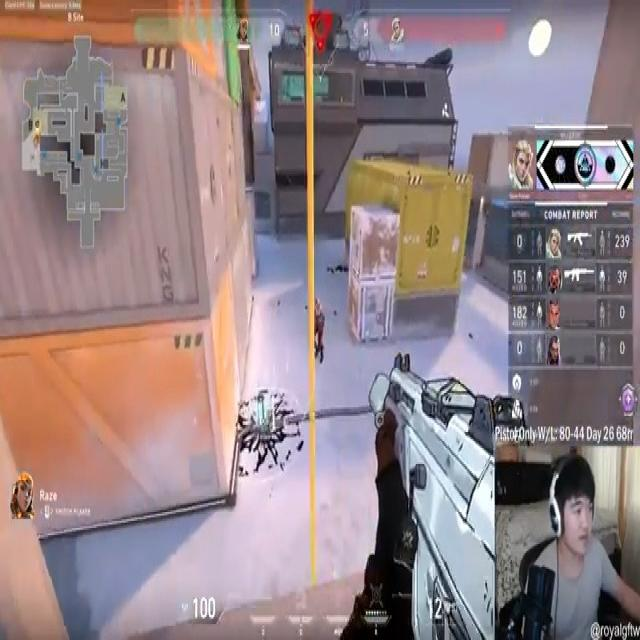enemy: (313, 298, 327, 362)
